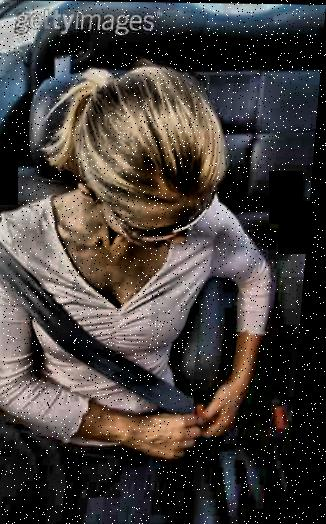seatbelt: (0, 225, 223, 430)
